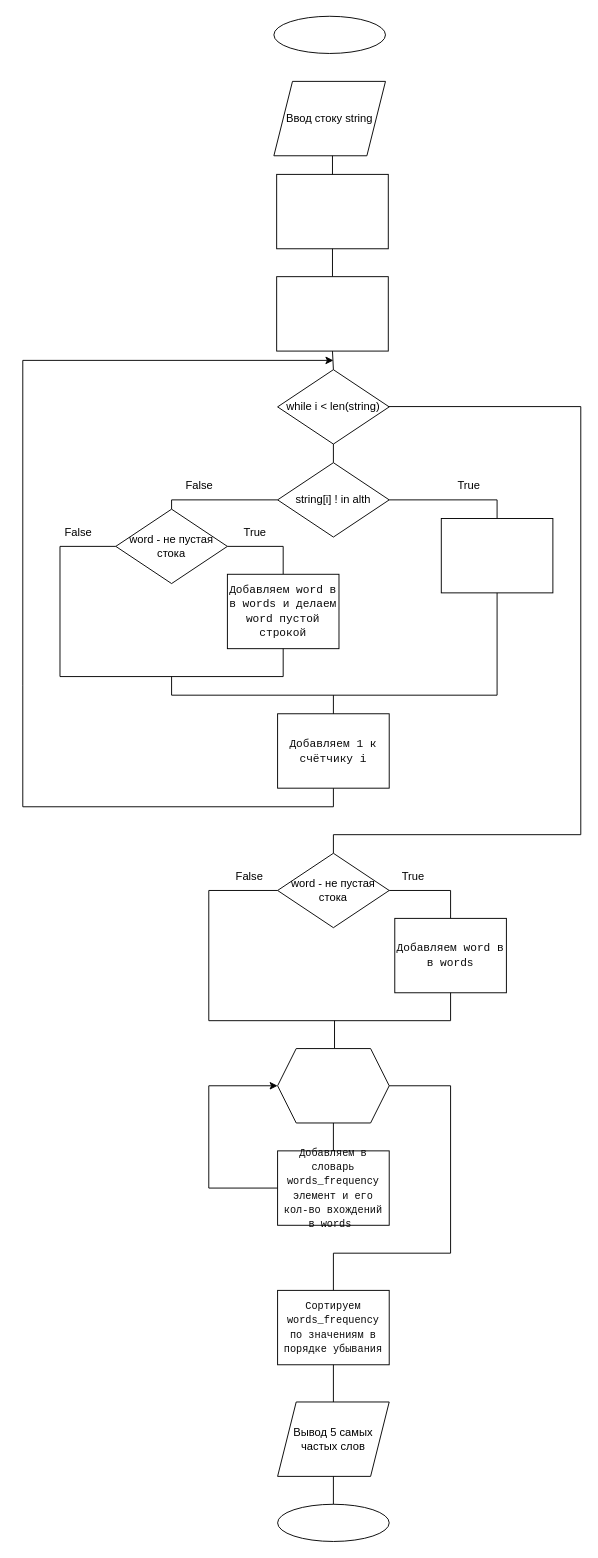
Some shapes in this 598 by 1558 pixel diagram are drawn without their labels. Each missing label, with the centre of its shape:
"Добавляем к word элемент string под индексом i" belongs at [496,555].
"Конец" belongs at [333,1522].
"Начало" belongs at [329,34].
"Проходимся по элементам в words" belongs at [333,1085].
"Создаём пустую строчку word, счётчик i и алфавит" belongs at [332,313].
"Создаём списки words" belongs at [332,211].
